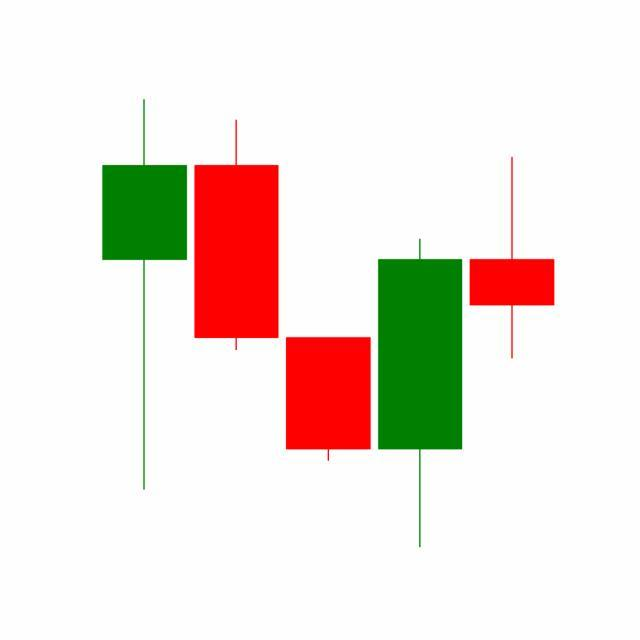Spinning Top: (466, 155, 559, 361)
